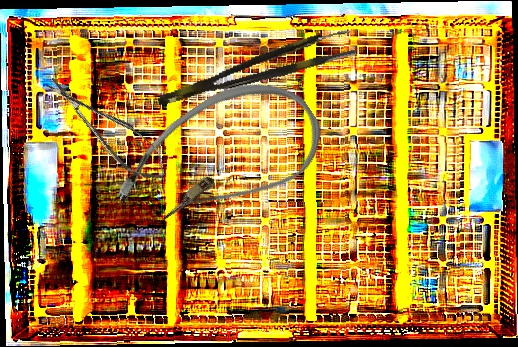Cannula: (100, 54, 338, 266)
Micro Scissor: (39, 65, 175, 191)
Tissue Forceps: (152, 26, 357, 109)
